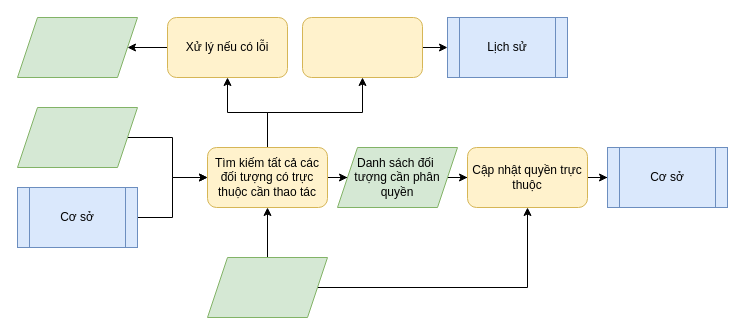
Some shapes in this 745 by 335 pixel diagram are drawn without their labels. Each missing label, with the centre of its shape:
"Biến done con trỏ lưu trữ id" belongs at point (77, 137).
"Ghi lại lịch sử" belongs at point (362, 47).
"Hệ thống" belongs at point (77, 47).
"Thông tin hệ thống" belongs at point (267, 287).
